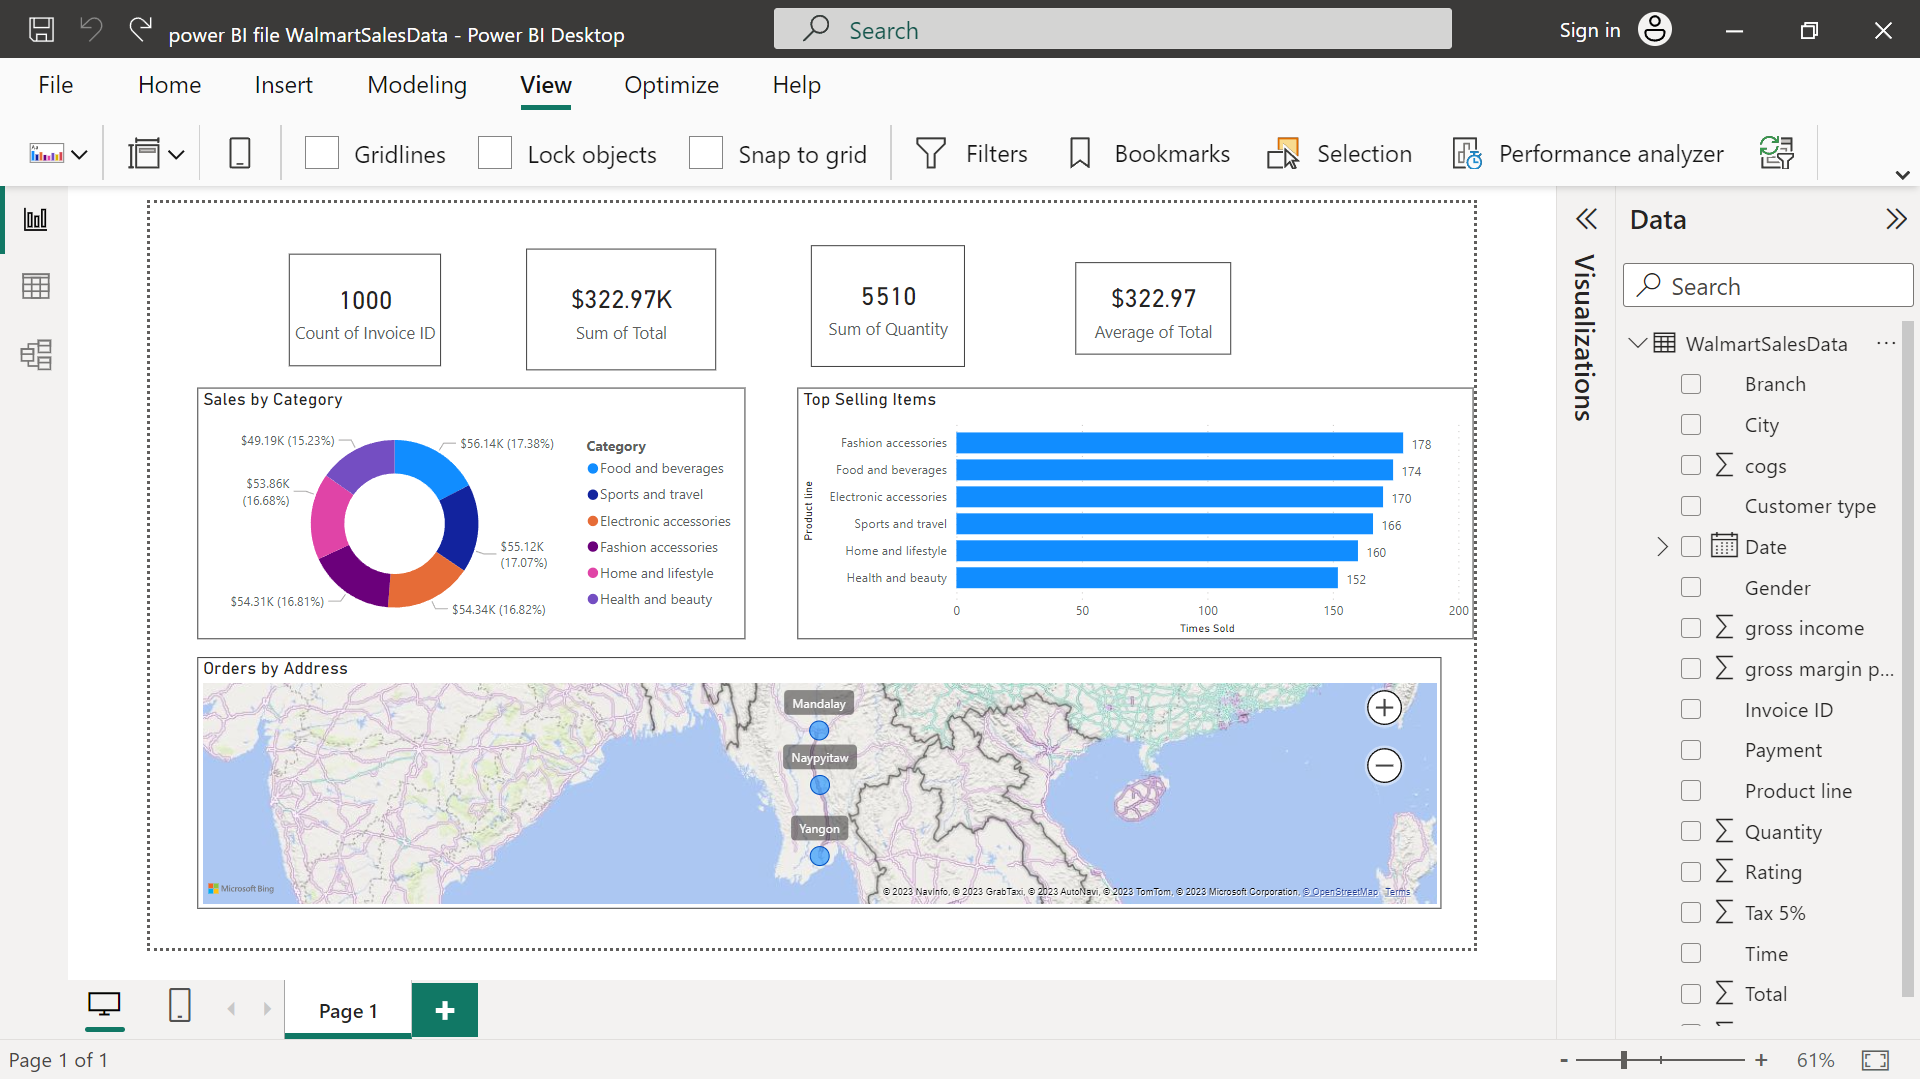

What the dashboard file says about the page in this screenshot:
{"tool":"powerbi","page":{"name":"Page 1","canvas":[1280,720],"ordinal":0},"visuals":[{"type":"card","fields":{"Values":["Count(WalmartSalesData.Invoice ID)"]},"box":[134.6,49,146.9,108.4],"z":0},{"type":"card","fields":{"Values":["Sum(WalmartSalesData.Total)"]},"box":[363.6,43.7,183.6,117.1],"z":1000},{"type":"card","fields":{"Values":["Sum(WalmartSalesData.Quantity)"]},"box":[639.9,40.2,148.6,117.1],"z":2000},{"type":"card","fields":{"Values":["Avg(WalmartSalesData.Total)"]},"box":[895.1,57.7,150.4,89.2],"z":3000},{"type":"donutChart","title":"Sales by Category","fields":{"Category":["WalmartSalesData.Product line"],"Y":["Sum(WalmartSalesData.Total)"]},"box":[45.5,178.3,529.7,243],"z":4000},{"type":"barChart","title":"Top Selling Items","fields":{"Category":["WalmartSalesData.Product line"],"Y":["CountNonNull(WalmartSalesData.Product line)"]},"box":[625.9,178.3,653.8,243],"z":5000},{"type":"map","title":"Orders by Address","fields":{"Category":["WalmartSalesData.City"]},"box":[45.5,438.8,1202.8,243],"z":6000}]}

Visuals, with their boxes on the page's 1280x720 design canvas (x1, y1, x2, y2). These are canvas units, not pixel positions in the 1920x1079 screenshot, which may show the page scaled, cropped or inside an application window:
card - Count(WalmartSalesData.Invoice ID): [135, 49, 282, 157]
card - Sum(WalmartSalesData.Total): [364, 44, 547, 161]
card - Sum(WalmartSalesData.Quantity): [640, 40, 788, 157]
card - Avg(WalmartSalesData.Total): [895, 58, 1046, 147]
"Sales by Category" donutChart: [46, 178, 575, 421]
"Top Selling Items" barChart: [626, 178, 1280, 421]
"Orders by Address" map: [46, 439, 1248, 682]
